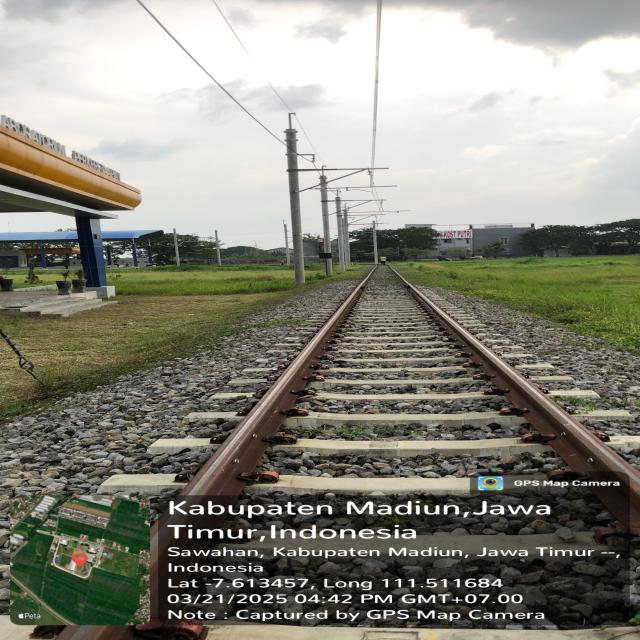rail-detection: (404, 280, 640, 535), (181, 270, 374, 510), (149, 516, 174, 627)
